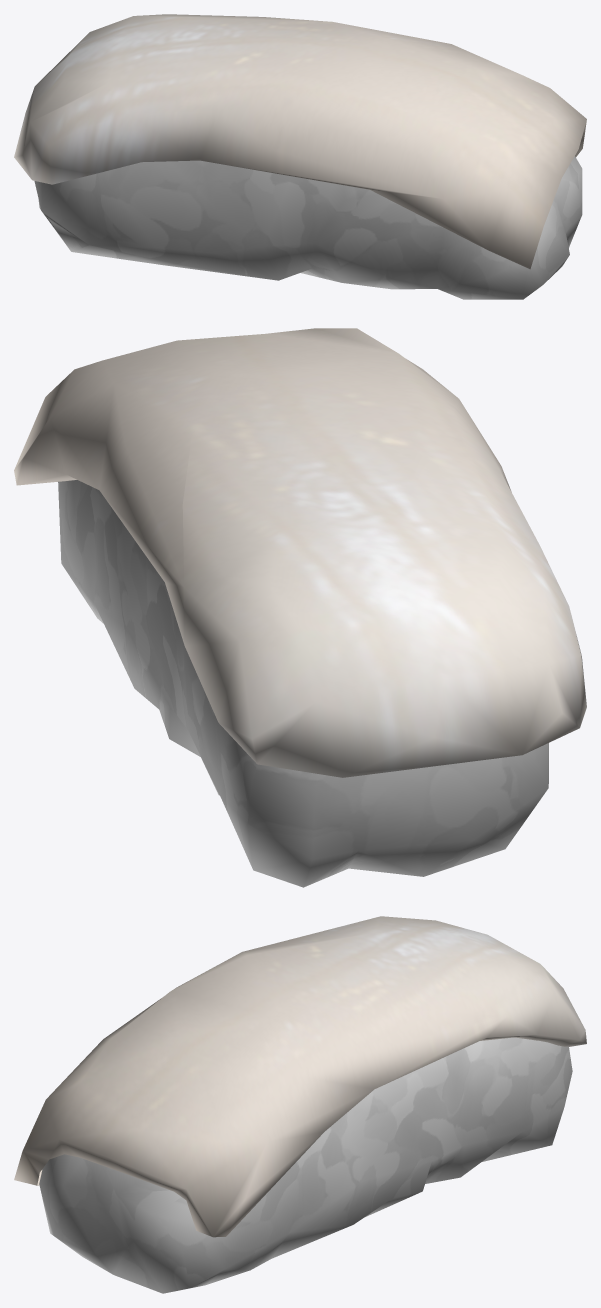
File: _quildsushi.fbx
3 views of the same model, one above another, from view 1: azimuth 30°, elevation 25°; view 2: azimuth 150°, elevation 25°; view 3: azimuth 270°, elevation 25° (orthographic). The views are drawn at different scales.
Parts seen in each view (by area): view 1: Salmon 4.007, Riceball 4.006; view 2: Salmon 4.007, Riceball 4.006; view 3: Salmon 4.007, Riceball 4.006.
Part boxes in pixels (x1=…): Salmon 4.007: x1=14, y1=14, x2=586, y2=269; Riceball 4.006: x1=34, y1=156, x2=582, y2=299; Salmon 4.007: x1=14, y1=328, x2=586, y2=777; Riceball 4.006: x1=58, y1=480, x2=548, y2=887; Salmon 4.007: x1=14, y1=916, x2=586, y2=1237; Riceball 4.006: x1=39, y1=1037, x2=572, y2=1293.
Bounding box in the file's own units: 101 × 44.15 × 102.
2 materials, 2 textured.
